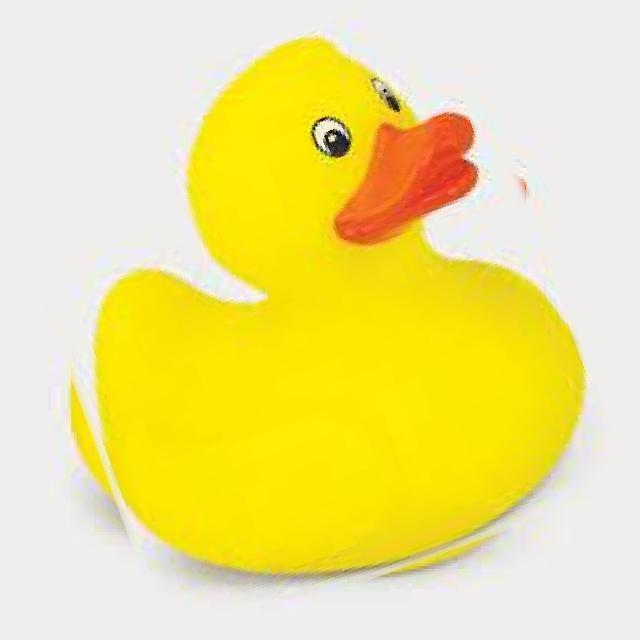rubber-duck: (55, 2, 584, 573), (519, 580, 618, 638)
